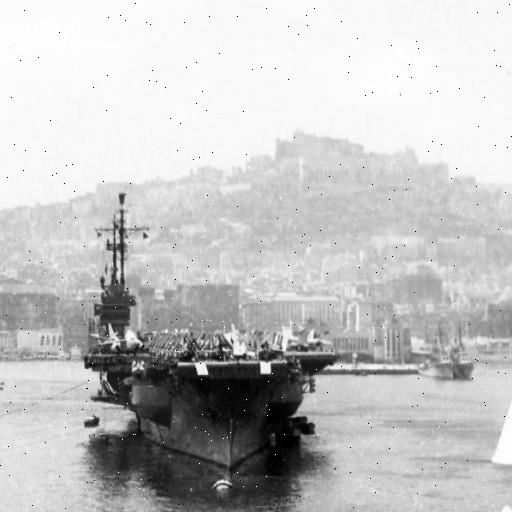Portanaves: (83, 152, 344, 501)
